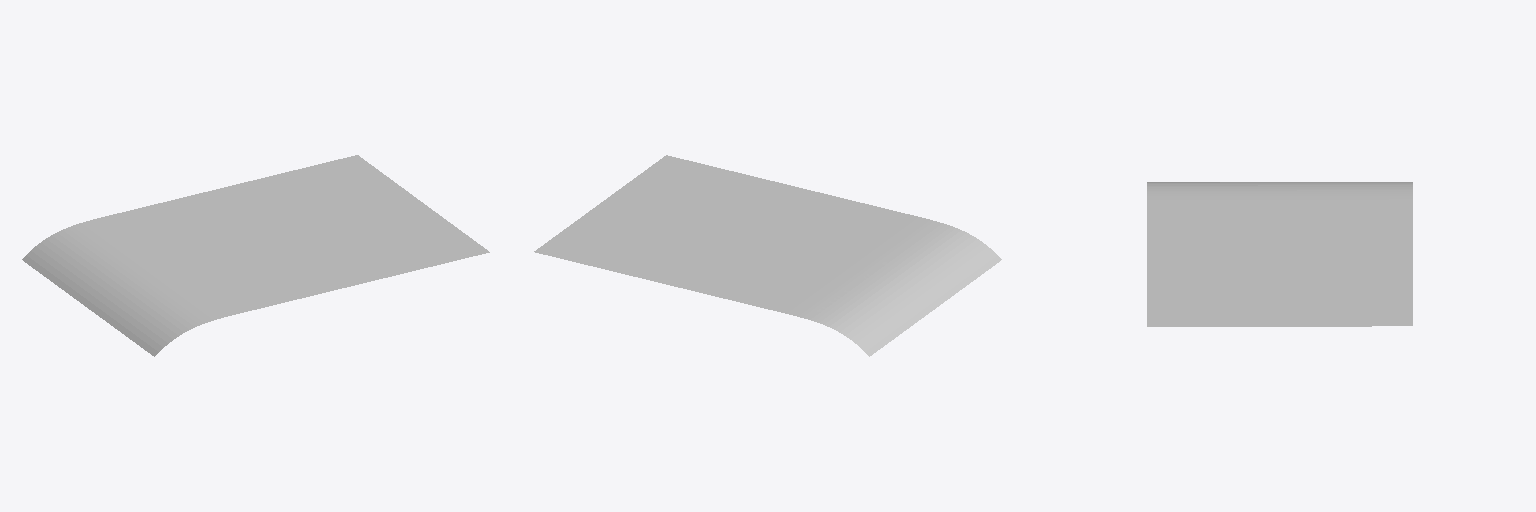
File: CurvePaper_000066.obj
3 renders of one model, left to right at view 1: azimuth 30°, elevation 25°; view 2: azimuth 150°, elevation 25°; view 3: azimuth 270°, elevation 25°, orthographic.
Visible parts, largest first — view 1: Plane; view 2: Plane; view 3: Plane.
Boxes of the visible parts, <box> form: Plane: <box>22,155,489,356</box>; Plane: <box>534,155,1001,356</box>; Plane: <box>1147,182,1412,326</box>.
Size of the model in its own units: 3.3 by 0.2168 by 2.26.